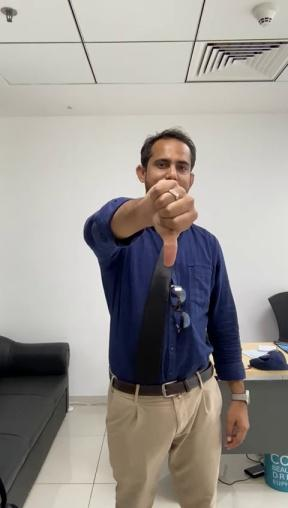thumbs-down: (148, 179, 198, 266)
